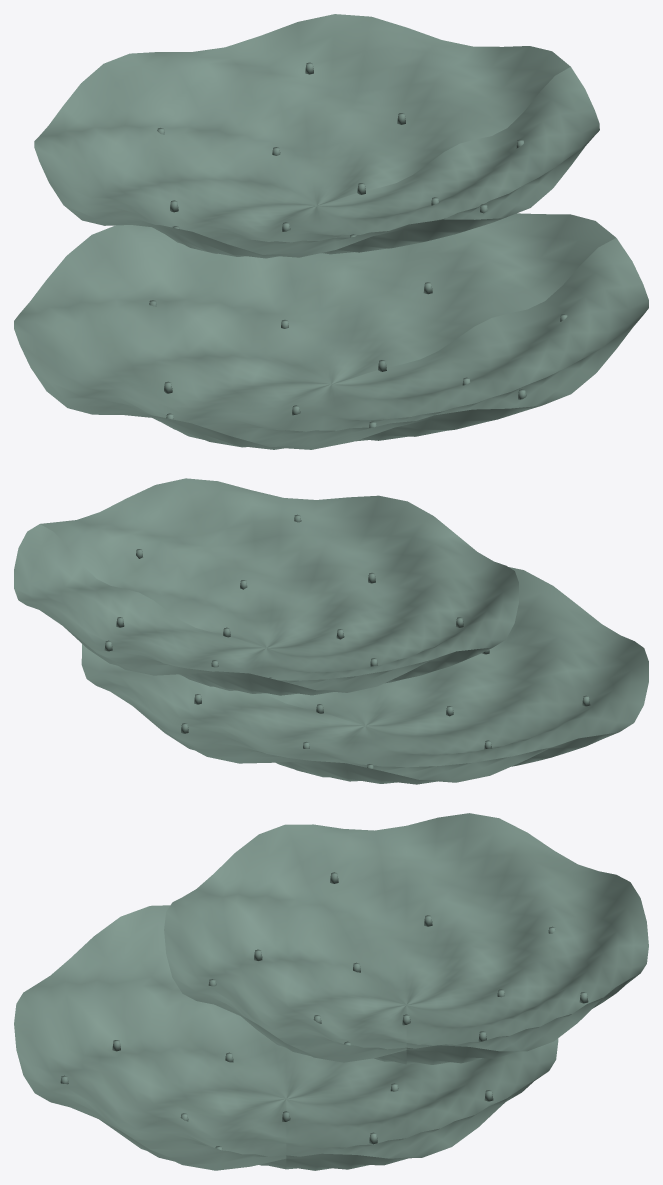
Rendered from chalice-mobile.glb.
The picture shows the model from 3 angles, top to bottom: view 1: azimuth 30°, elevation 25°; view 2: azimuth 150°, elevation 25°; view 3: azimuth 270°, elevation 25°; orthographic projection. The views are drawn at different scales.
Parts seen in each view (by area): view 1: foliate-plate, surface-corallite; view 2: foliate-plate, surface-corallite; view 3: foliate-plate, surface-corallite.
Part boxes in pixels (<box>): foliate-plate: <box>14,14,648,449</box>; surface-corallite: <box>149,62,567,427</box>; foliate-plate: <box>14,478,648,784</box>; surface-corallite: <box>104,514,590,768</box>; foliate-plate: <box>14,813,648,1170</box>; surface-corallite: <box>60,872,588,1150</box>.
Bounding box in the file's own units: 0.659 × 0.2174 × 0.6419.
